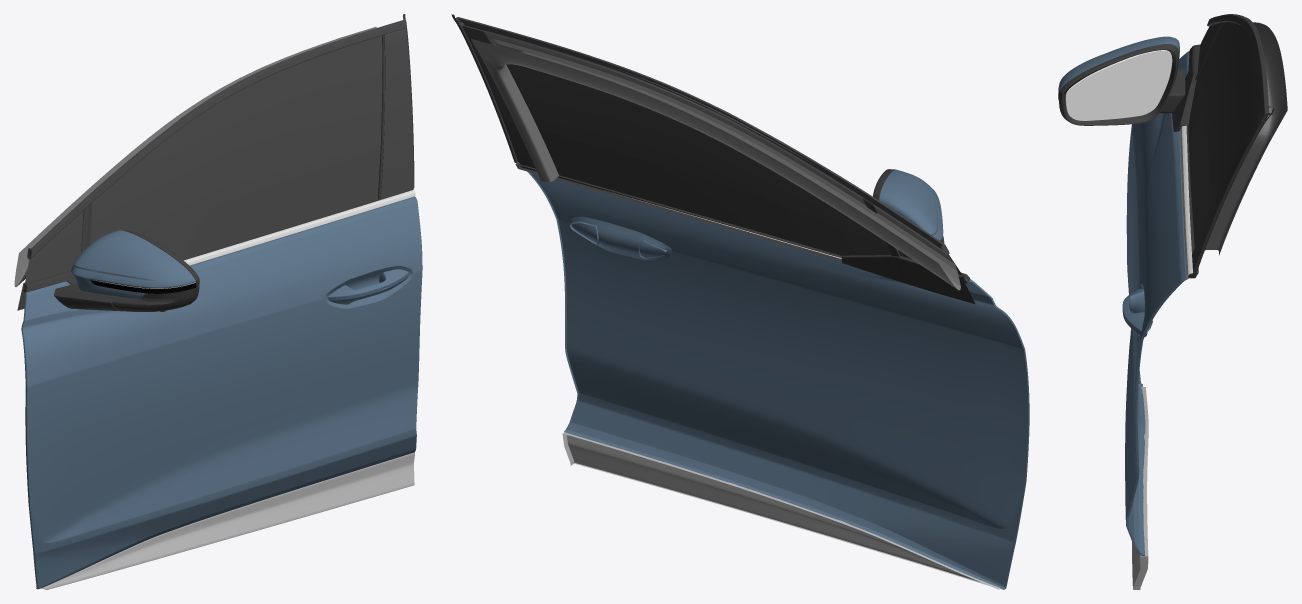
Rendered from zqcm.glb.
3 renders of one model, left to right at view 1: azimuth 30°, elevation 25°; view 2: azimuth 150°, elevation 25°; view 3: azimuth 270°, elevation 25°, orthographic. The views are drawn at different scales.
Parts seen in each view (by area): view 1: polySurface288; view 2: polySurface288; view 3: polySurface288.
Boxes of the visible parts, x1=… form: polySurface288: x1=14, y1=14, x2=422, y2=589; polySurface288: x1=451, y1=14, x2=1029, y2=589; polySurface288: x1=1058, y1=14, x2=1287, y2=589.
Bounding box in the file's own units: 1.25 × 1.18 × 0.4655.
